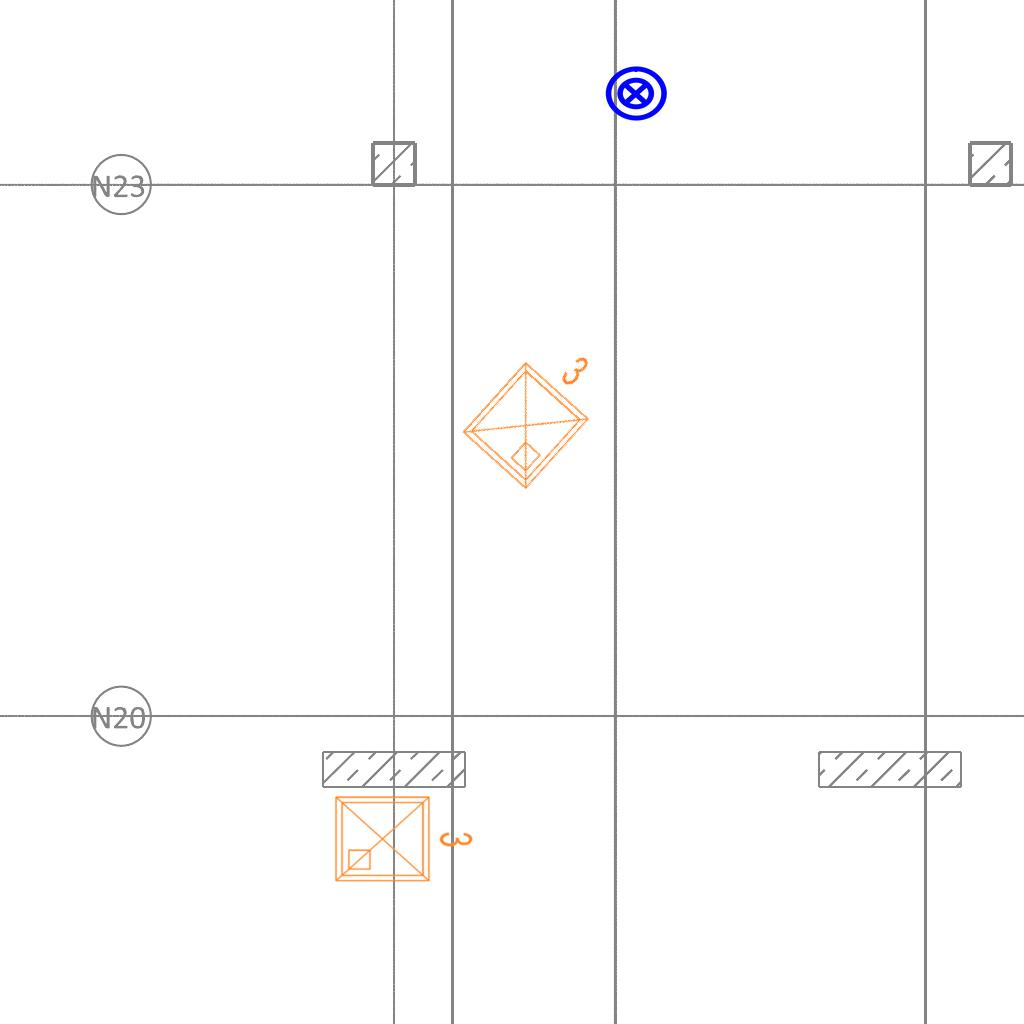Einbaudownlights_LED_Konferenzraeume: (449, 318, 627, 500), (328, 785, 478, 889)
Taster_beleuchtet: (603, 61, 669, 127)
